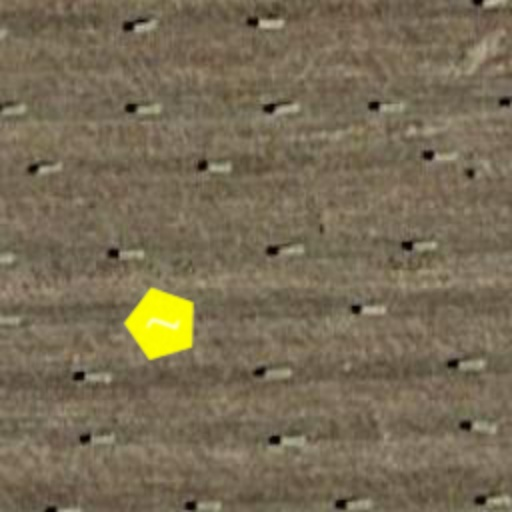pentagon: (112, 274, 212, 374)
